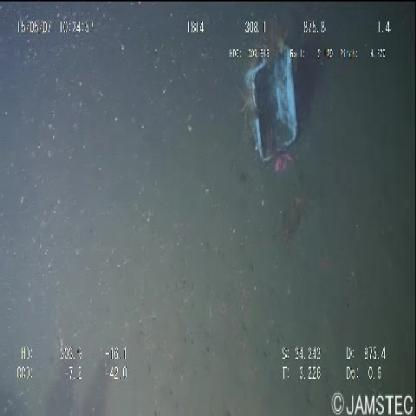Rác: (239, 36, 303, 170)
